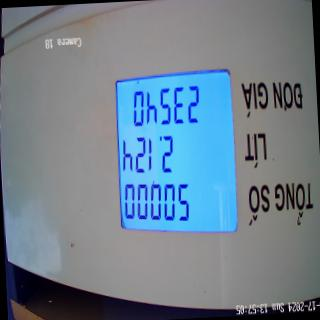screen: (110, 68, 242, 246)
